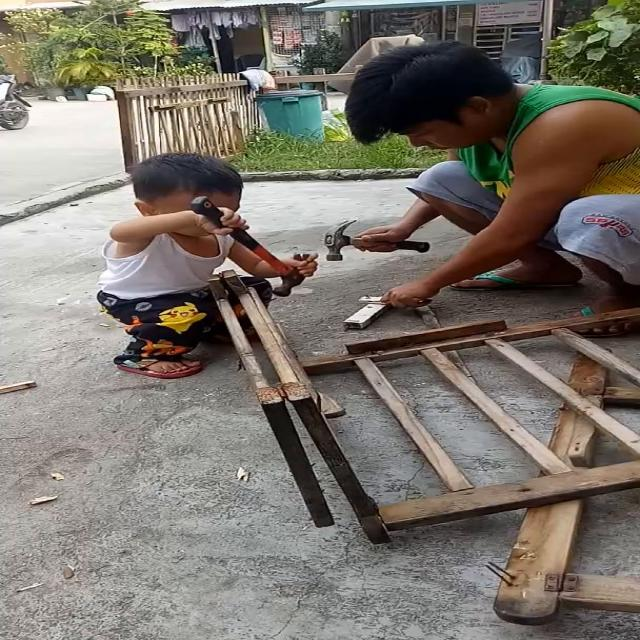hammer: (190, 196, 310, 297), (324, 219, 429, 262)
